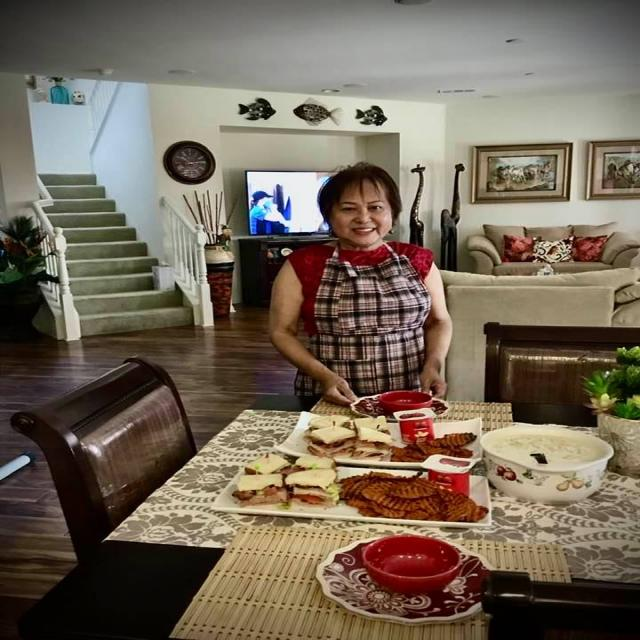Sandwich: (236, 408, 364, 522)
